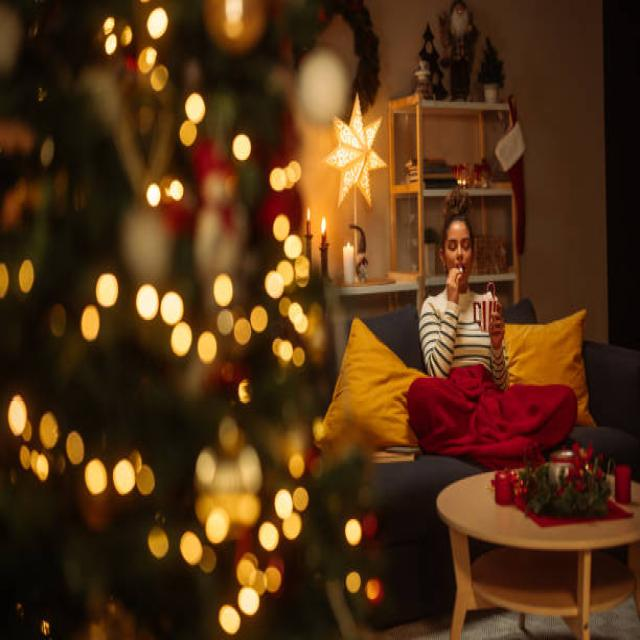Red_cup: (614, 465, 631, 503), (495, 471, 513, 505)
